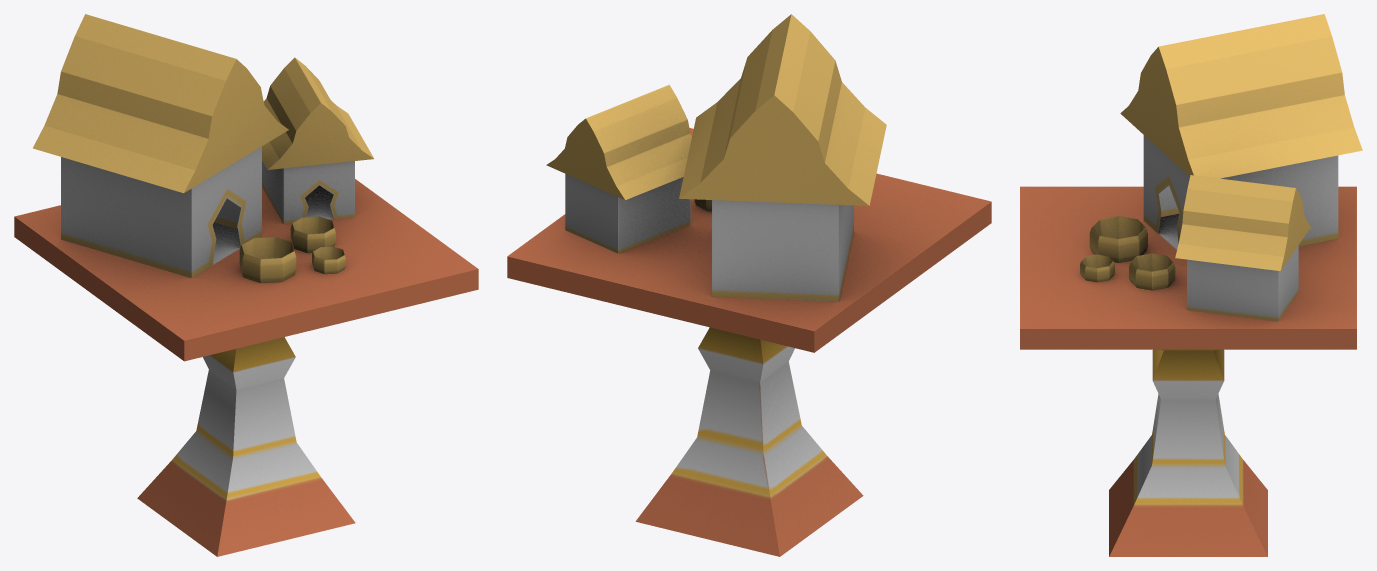
The model's file is Holy_Small.fbx.
3 renders of one model, left to right at view 1: azimuth 30°, elevation 25°; view 2: azimuth 150°, elevation 25°; view 3: azimuth 270°, elevation 25°, orthographic. The views are drawn at different scales.
Parts seen in each view (by area): view 1: Holy_Small; view 2: Holy_Small; view 3: Holy_Small.
Boxes of the visible parts, x1,y1,x2,y2 form: Holy_Small: (14, 14, 478, 556); Holy_Small: (507, 14, 991, 556); Holy_Small: (1020, 14, 1362, 556).
Size of the model in its own units: 1.87 by 2.68 by 1.79.
